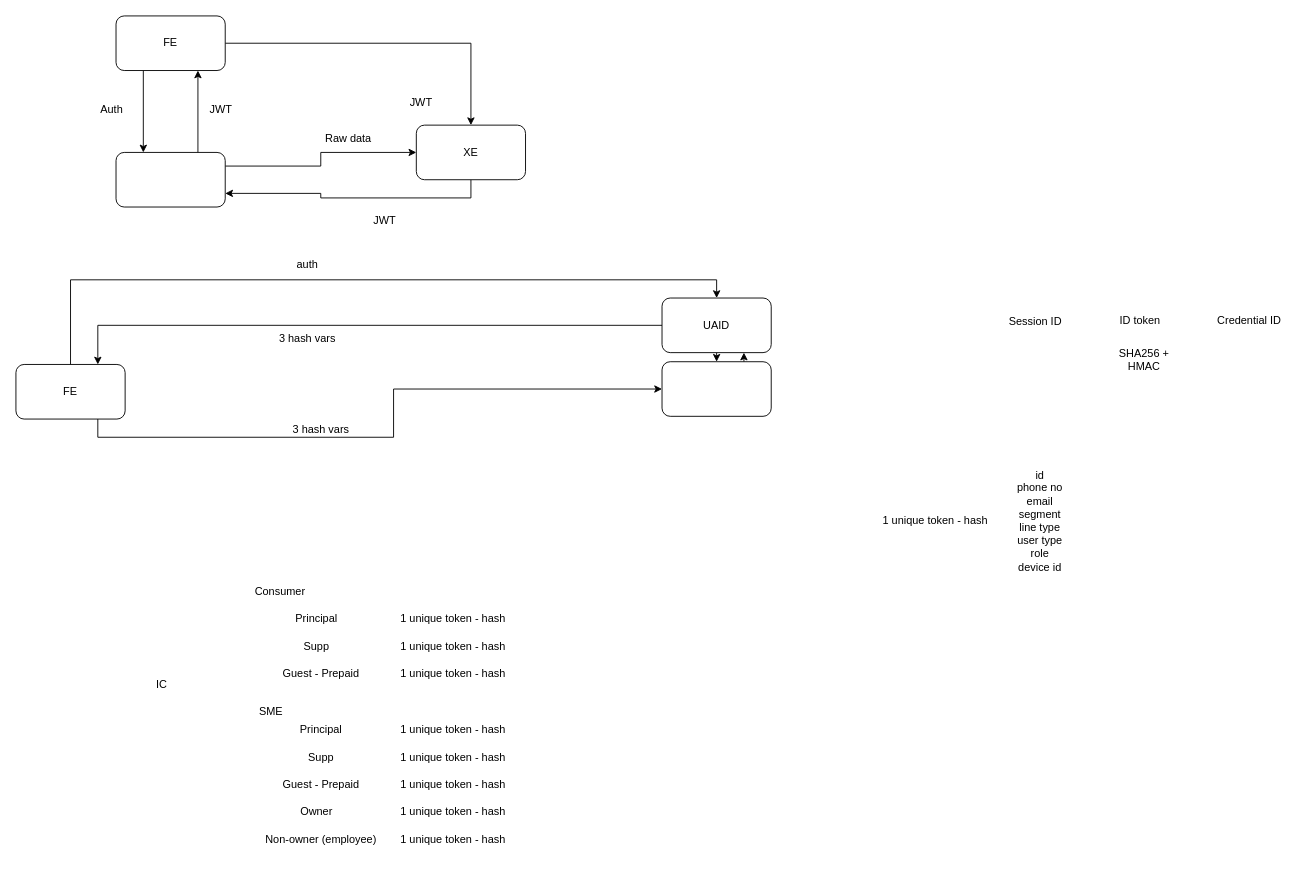
Some shapes in this 1306 by 869 pixel diagram are drawn without their labels. The shapes that lost their labels are listed below. From the top down, each one's box as (x1, y1, x2, y2) in pixels, then its label:
(115, 152, 225, 207): UDID
(661, 361, 771, 416): UE
